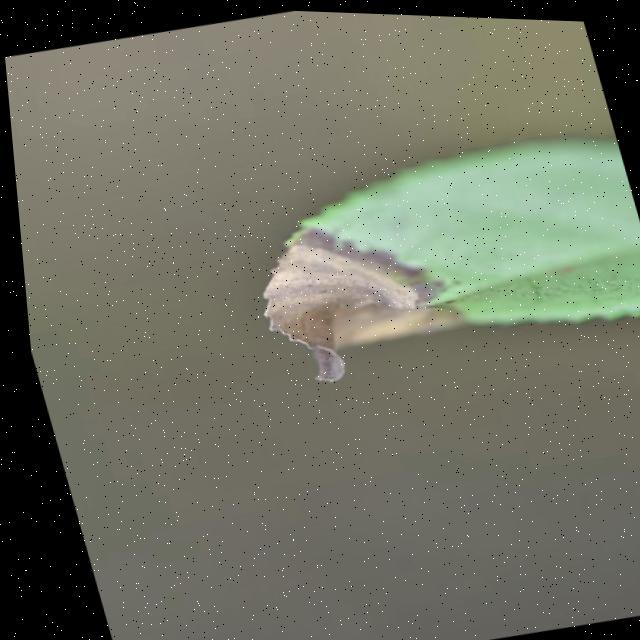Tea cloud leaf blight: (229, 184, 452, 393)
